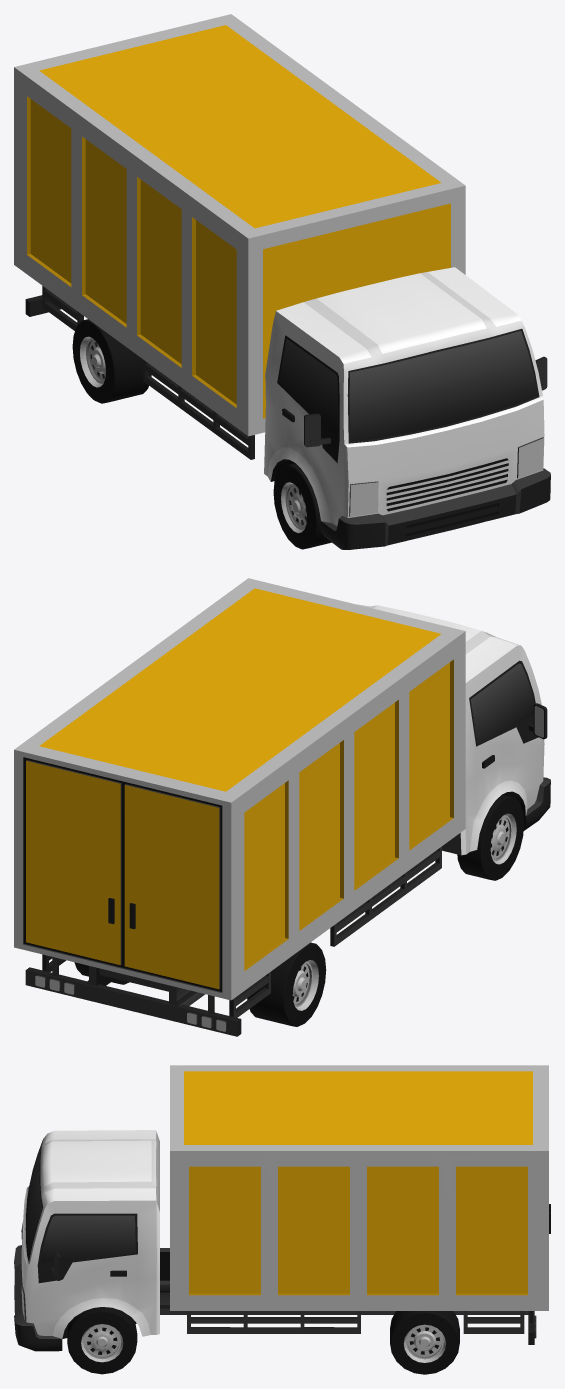
The model's file is LaHuoChe00.fbx.
3 views of the same model, one above another, from view 1: azimuth 30°, elevation 25°; view 2: azimuth 150°, elevation 25°; view 3: azimuth 270°, elevation 25° (orthographic). The views are drawn at different scales.
Parts seen in each view (by area): view 1: LaHuoChe00; view 2: LaHuoChe00; view 3: LaHuoChe00.
Part boxes in pixels (<box>): LaHuoChe00: <box>14,14,550,549</box>; LaHuoChe00: <box>14,578,550,1036</box>; LaHuoChe00: <box>14,1065,550,1374</box>.
Size of the model in its own units: 358 by 393 by 849.
